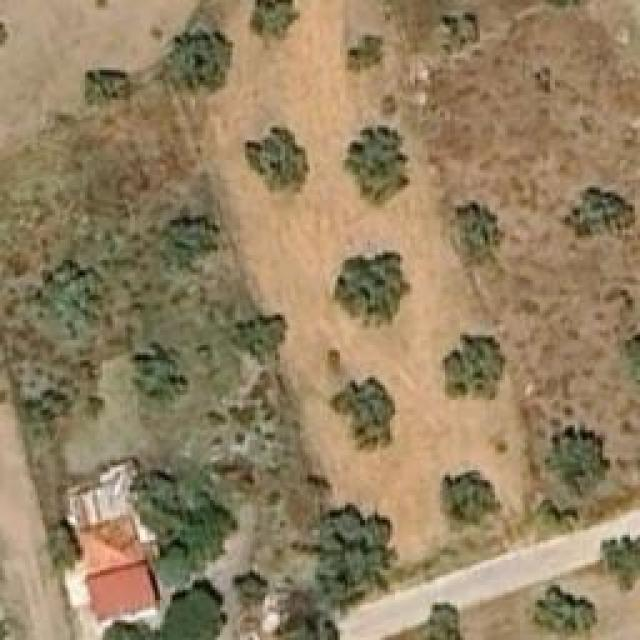Tree: (5, 260, 115, 340), (328, 253, 411, 328), (320, 510, 385, 603), (328, 378, 398, 453), (345, 123, 408, 206), (155, 30, 233, 95), (545, 422, 610, 500), (245, 125, 310, 193), (443, 332, 508, 400), (160, 577, 225, 640), (565, 187, 635, 245), (525, 585, 598, 640), (438, 470, 501, 533), (230, 303, 288, 363), (580, 535, 640, 590), (160, 218, 220, 271), (137, 350, 185, 413), (455, 200, 505, 255), (250, 0, 300, 50), (433, 8, 483, 57), (85, 70, 133, 108), (423, 602, 463, 640), (348, 35, 383, 73), (287, 617, 342, 640), (227, 408, 255, 431)
